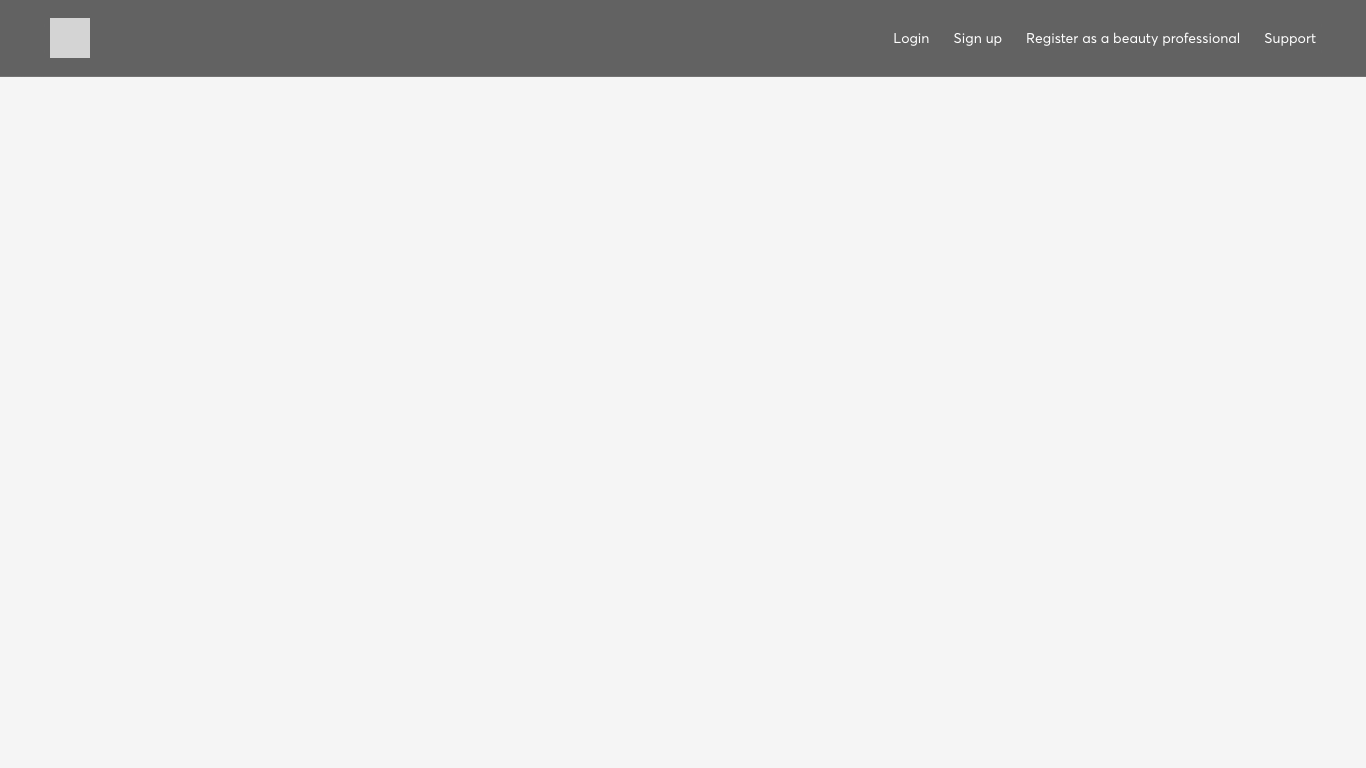
Test case: header sign-up on the demo › opens the sign-up dialog on the live site
What coordinates should you click on to do the following:
click the button "Sign up"
I would click on:
 (978, 38)
Its box is left=954, top=28, right=1002, bottom=48.
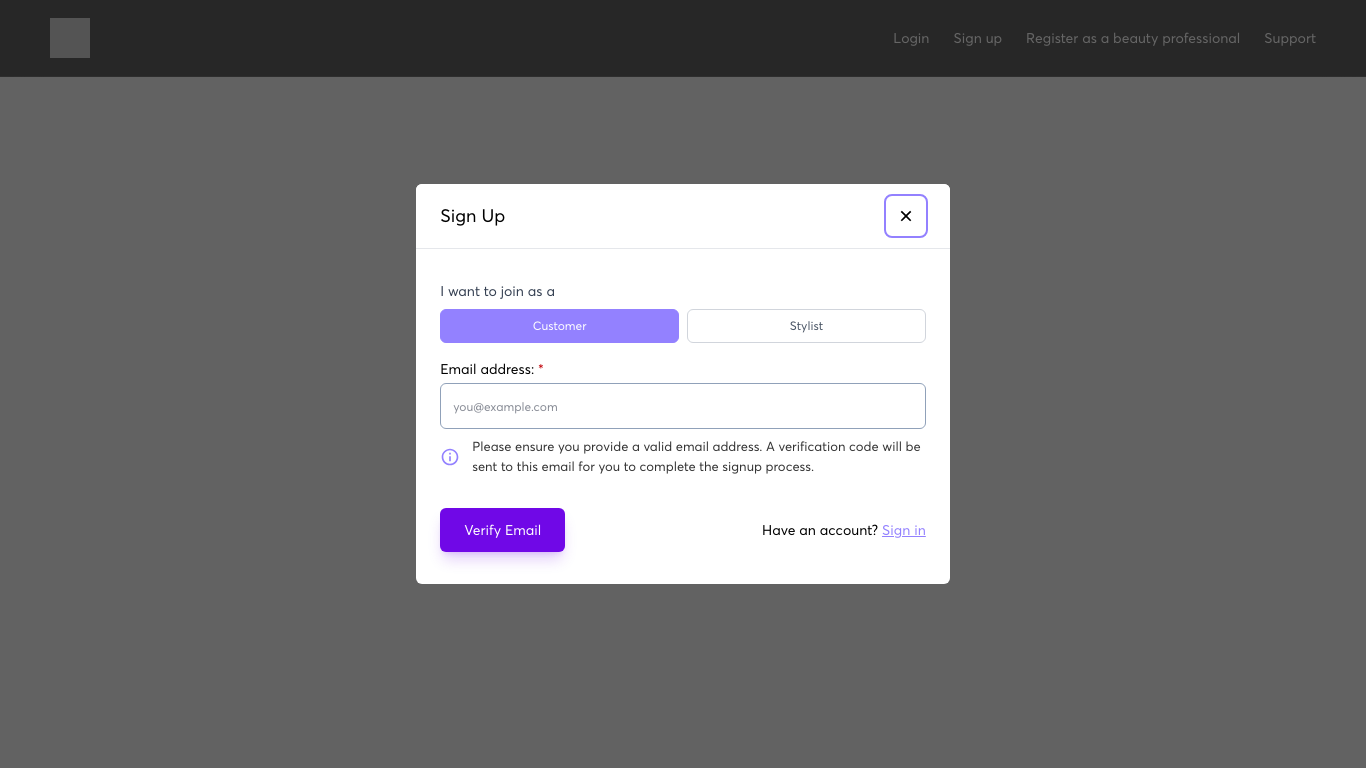
Now the text "I want to join as a" is shown, box left=440, top=282, right=555, bottom=299
